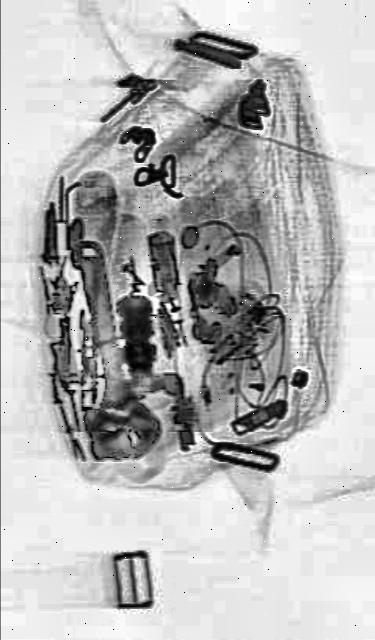Wrench: (55, 220, 165, 474)
